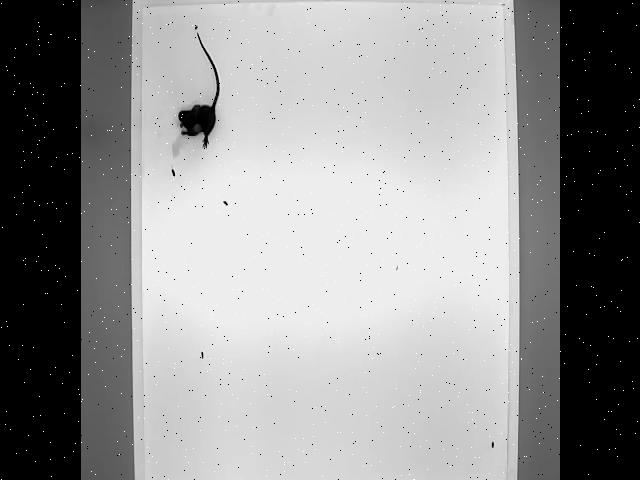Tikus: (171, 17, 221, 156)
